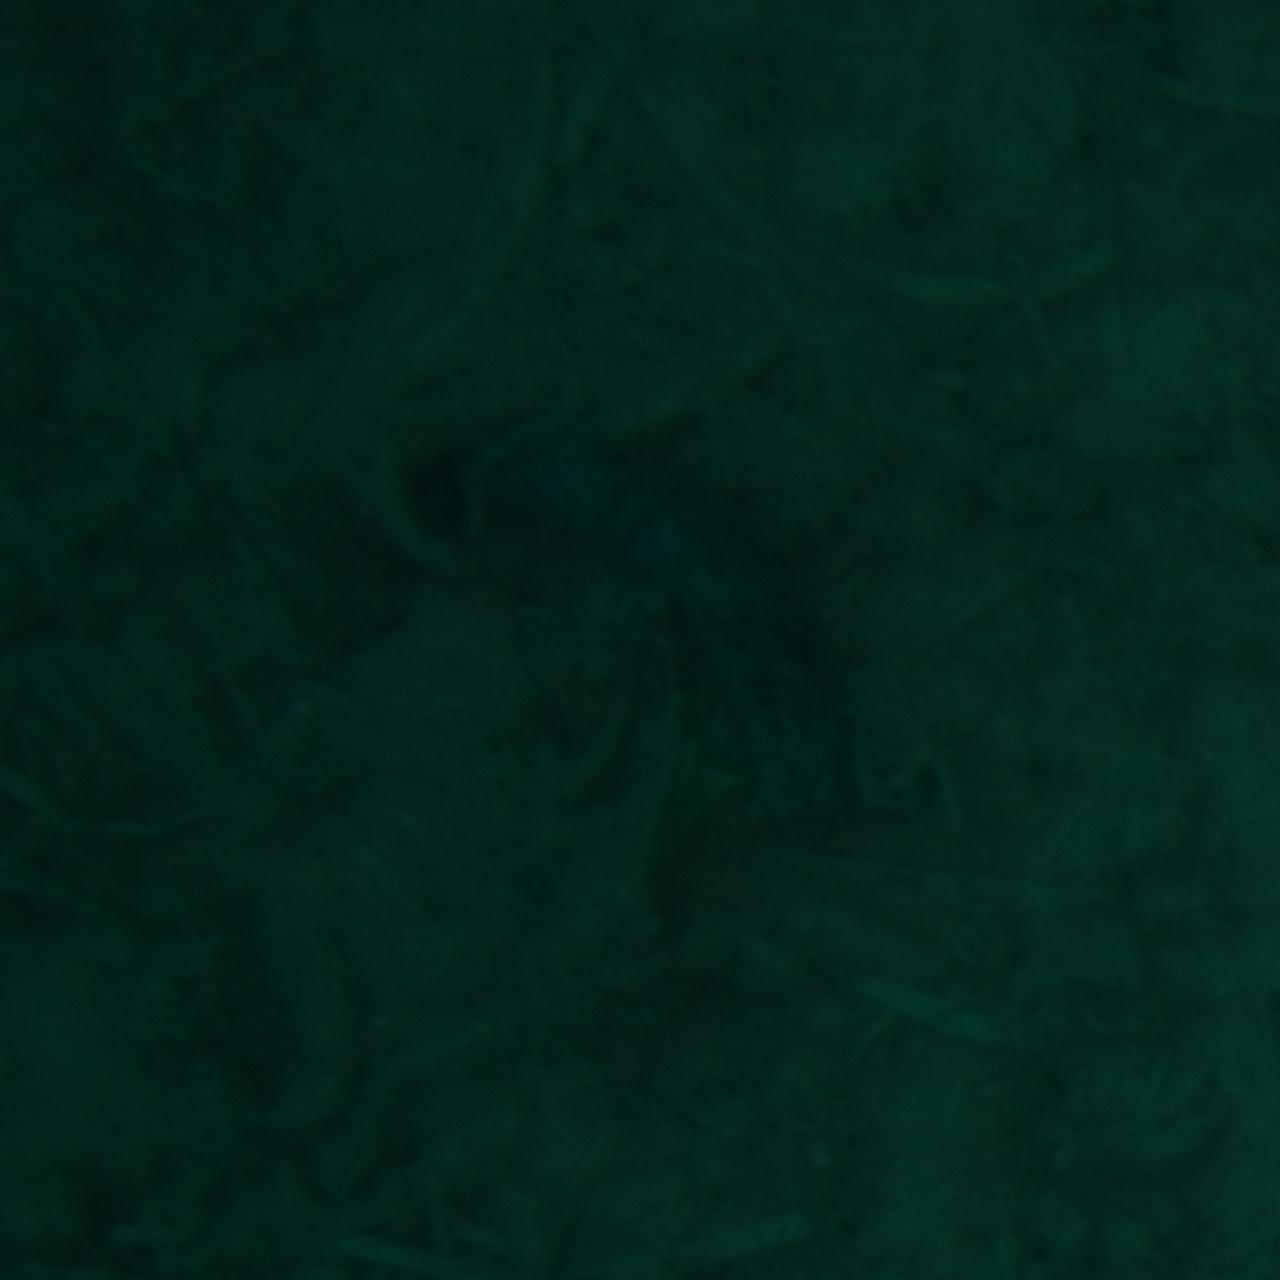Holothuria tubulosa: (408, 425, 872, 855)
